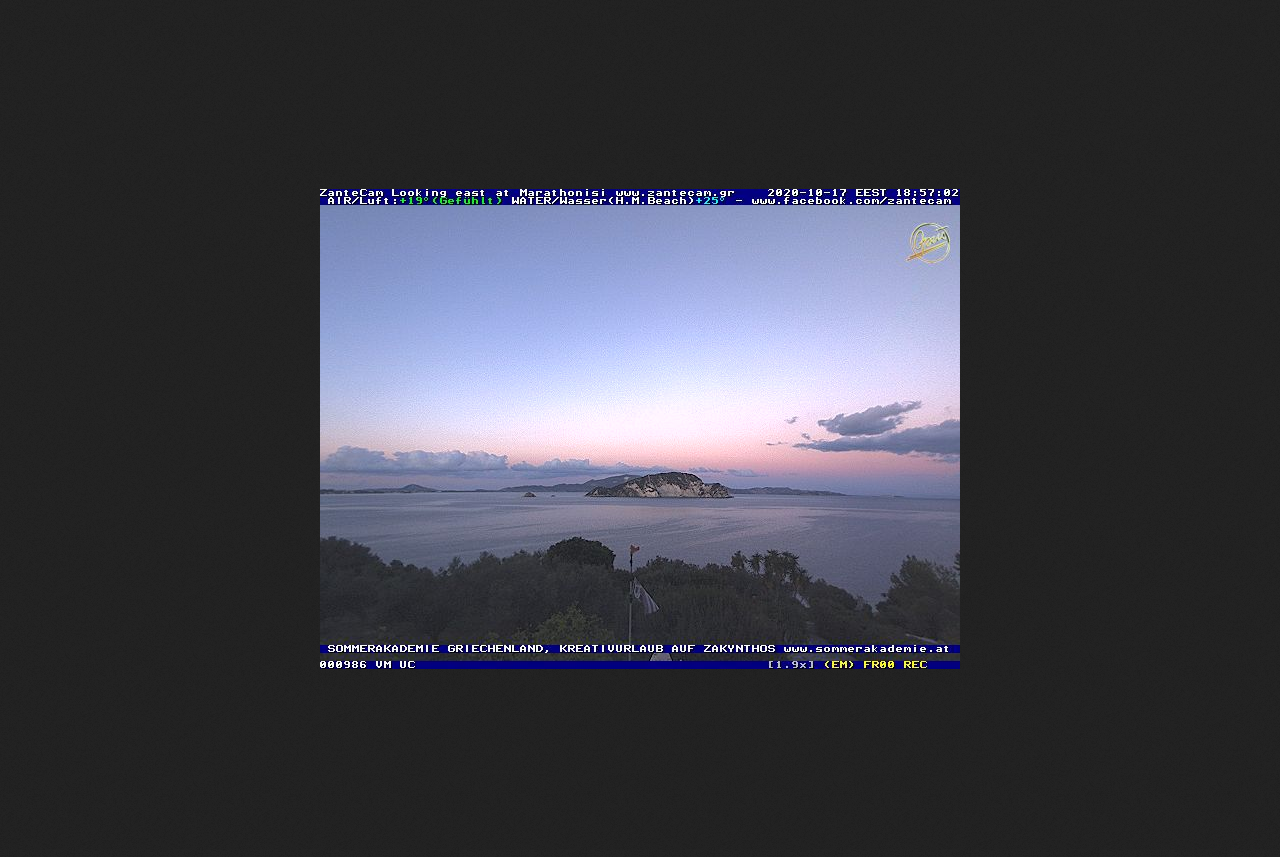maybe: (623, 570, 666, 620)
